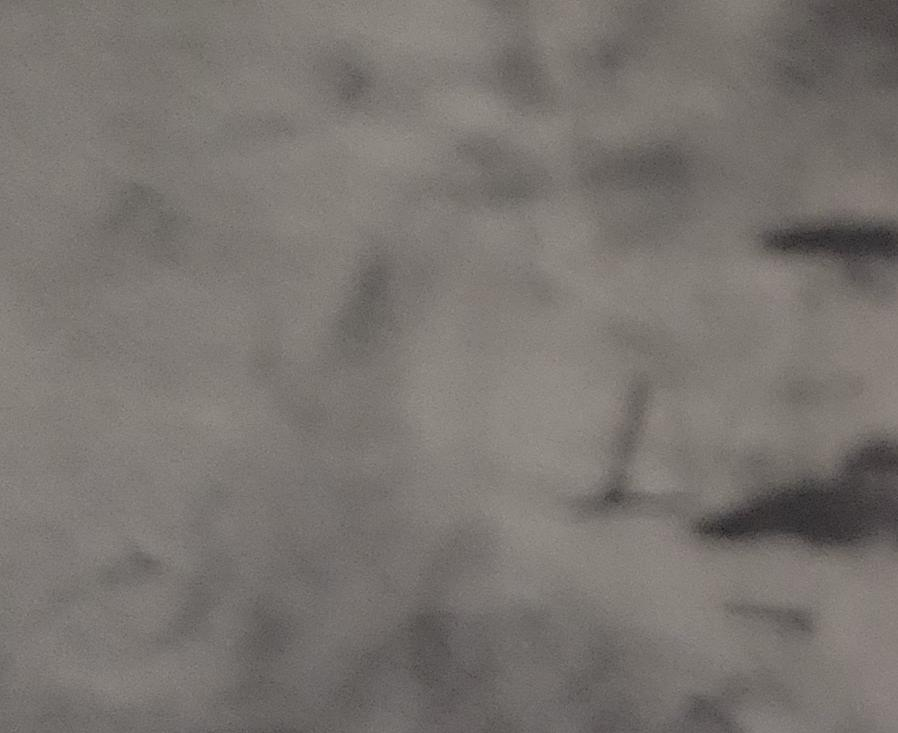Chip: (1, 442, 622, 733)
